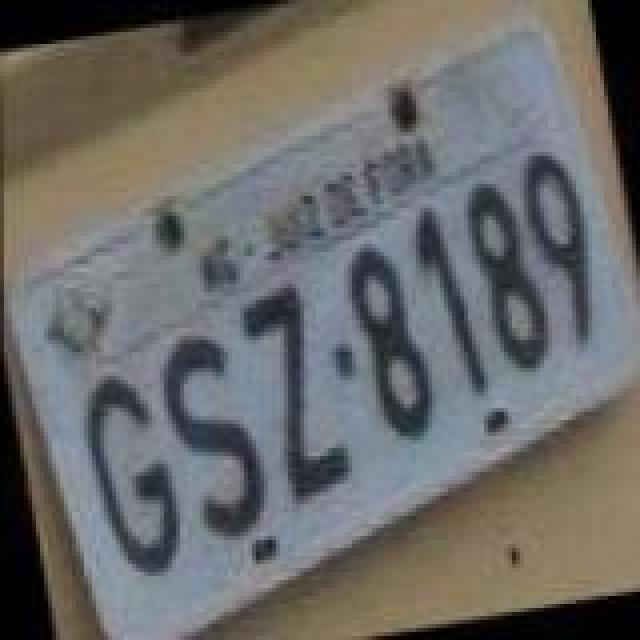1: (408, 202, 492, 402)
8: (340, 236, 440, 448), (456, 174, 556, 378)
9: (512, 146, 608, 358)
G: (74, 366, 190, 586)
S: (152, 322, 272, 546)
Z: (230, 274, 354, 510)
